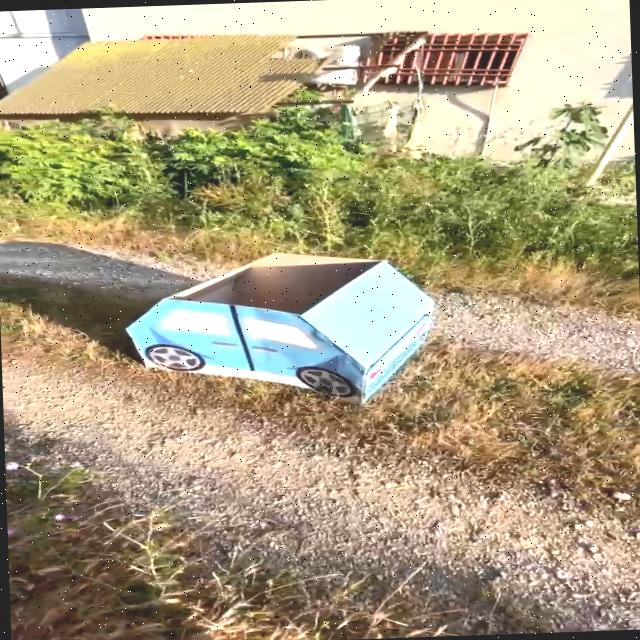blue_car: (88, 230, 469, 424)
